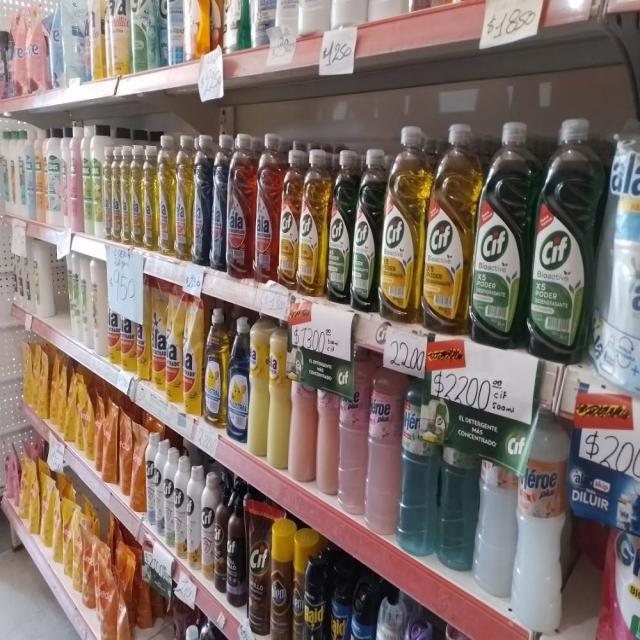ala_conc_amarillo: (175, 134, 193, 262), (158, 134, 175, 256), (144, 141, 158, 251), (132, 143, 144, 248), (121, 145, 131, 245), (102, 145, 111, 241), (112, 144, 120, 243)
ala_conc_azul: (193, 132, 211, 266), (211, 132, 227, 272)
ala_conc_rojo: (228, 132, 254, 280), (255, 132, 278, 284)
ala_crem_amarillo: (268, 317, 289, 472), (249, 315, 268, 459)
ala_sachet_amarillo: (182, 288, 202, 416), (166, 282, 182, 405), (151, 278, 166, 391)
cif_conc_bot_amarilla: (424, 120, 471, 334), (381, 124, 423, 322), (300, 146, 328, 298), (278, 142, 298, 290)
cif_conc_botella_verde: (529, 116, 595, 361), (472, 119, 528, 346), (352, 147, 380, 312), (328, 146, 352, 304)
heroe: (512, 410, 568, 635), (398, 373, 437, 557), (366, 362, 399, 537)
magistral_con_amarillo: (204, 305, 227, 431)
magistral_con_azul: (228, 314, 248, 445)
